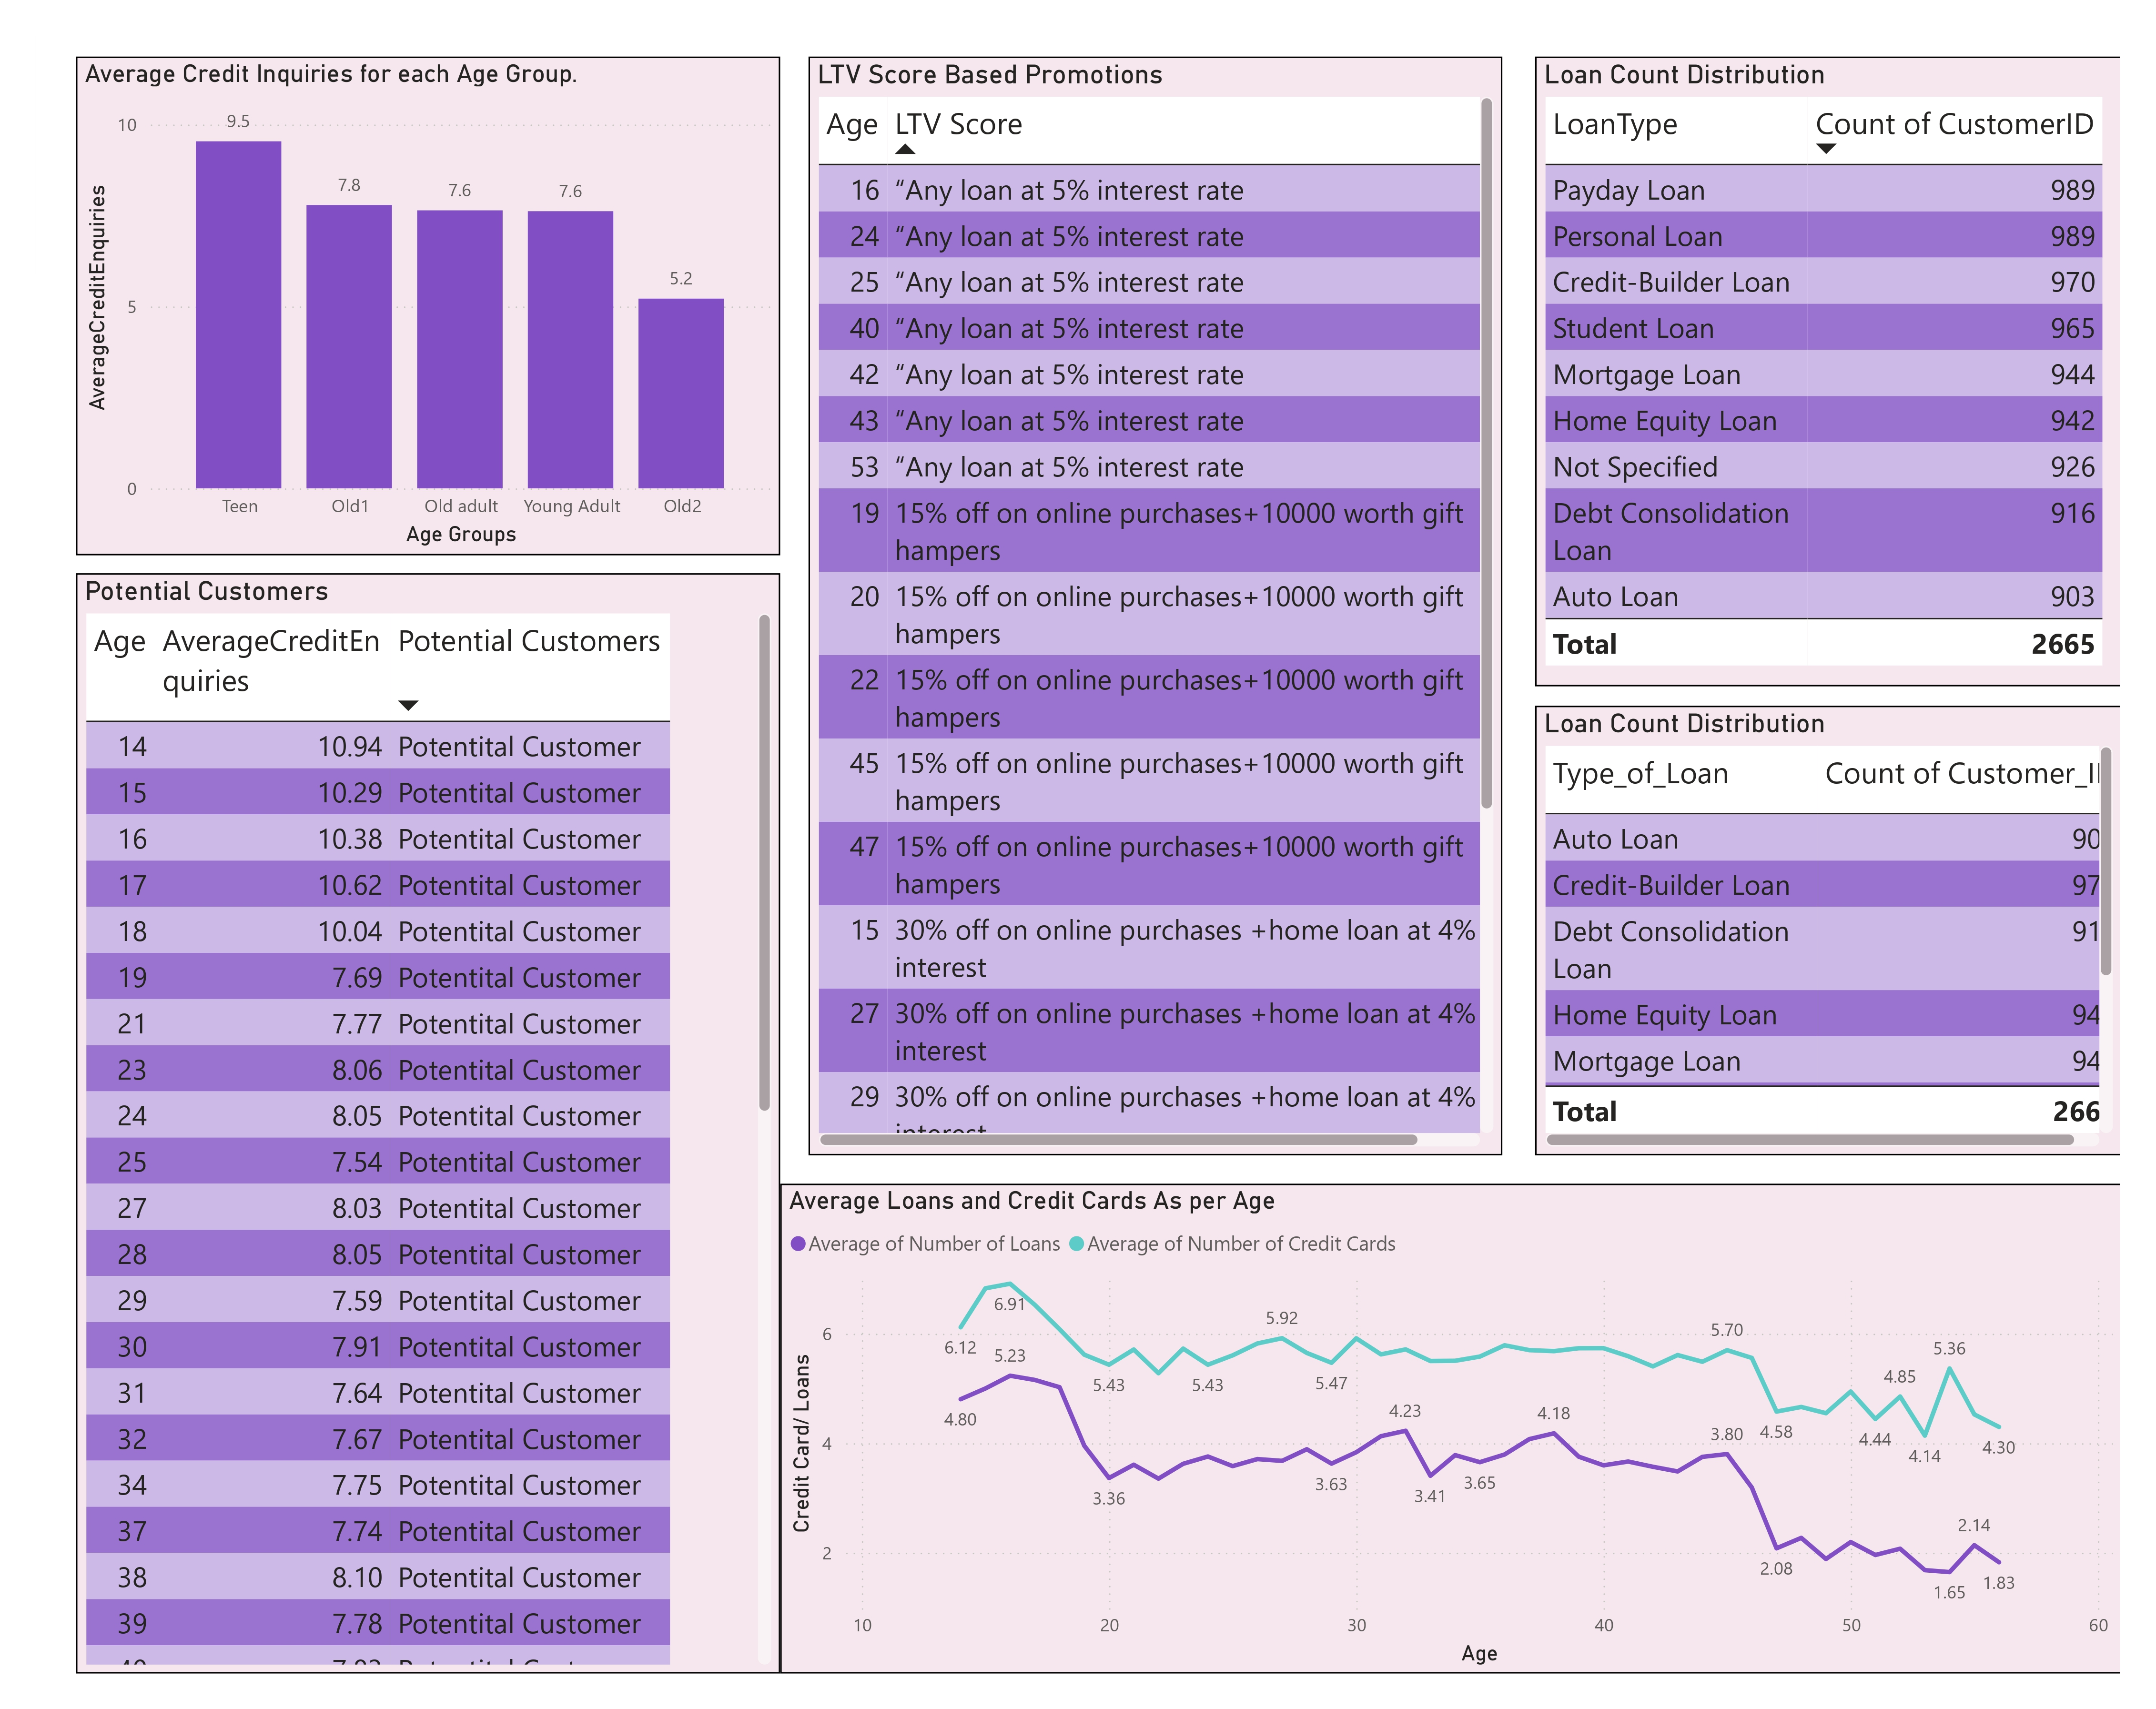

The page's visual inventory and layout, read from the dashboard file:
{"tool":"powerbi","page":{"name":"Page 2","canvas":[1400,1100],"ordinal":1},"visuals":[{"type":"clusteredColumnChart","title":"Average Credit Inquiries for each  Age Group.","fields":{"Category":["combined_df.Age Groups"],"Y":["Table.AverageCreditEnquiries"]},"box":[27.3,14.5,472.3,334.1],"z":0},{"type":"tableEx","title":"Potential Customers","fields":{"Values":["combined_df.Age","Table.AverageCreditEnquiries","Table.Potential Customers"]},"box":[27.3,361.4,472.3,738.9],"z":1000},{"type":"lineChart","title":"Average Loans and Credit Cards As per Age","fields":{"Category":["combined_df.Age"],"Y":["Avg(combined_df.Number of Loans)","Avg(combined_df.Number of Credit Cards)"]},"box":[499.6,771,901.1,329.3],"z":2000},{"type":"tableEx","title":"LTV Score Based Promotions","fields":{"Values":["combined_df.Age","Table.LTV Score"]},"box":[518.8,14.5,465.8,737.3],"z":3000},{"type":"tableEx","title":"Loan Count Distribution","fields":{"Values":["LoanTypeTable.LoanType","LoanTypeTable.CustomerID"]},"box":[1007.2,14.5,393.5,422.5],"z":4000},{"type":"tableEx","title":"Loan Count Distribution","fields":{"Values":["combined_df (2).Type_of_Loan","combined_df (2).Customer_ID"]},"box":[1007.2,449.8,393.5,302],"z":5000}]}

Visuals, with their boxes in screenshot pixels (x1, y1, x2, y2):
"Average Credit Inquiries for each  Age Group." clusteredColumnChart: 85,72,777,561
"Potential Customers" tableEx: 85,580,777,1662
"Average Loans and Credit Cards As per Age" lineChart: 777,1180,2097,1662
"LTV Score Based Promotions" tableEx: 805,72,1487,1152
"Loan Count Distribution" tableEx: 1520,72,2097,691
"Loan Count Distribution" tableEx: 1520,709,2097,1152
